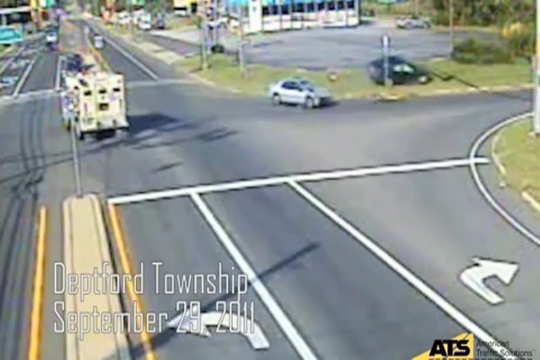car: (63, 67, 123, 135), (369, 56, 431, 88), (273, 76, 329, 108), (394, 13, 432, 29)
